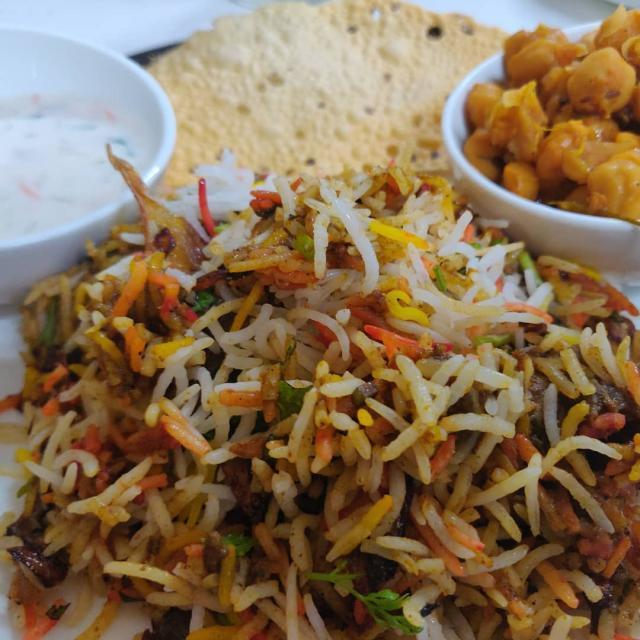biryani: (25, 175, 640, 640)
